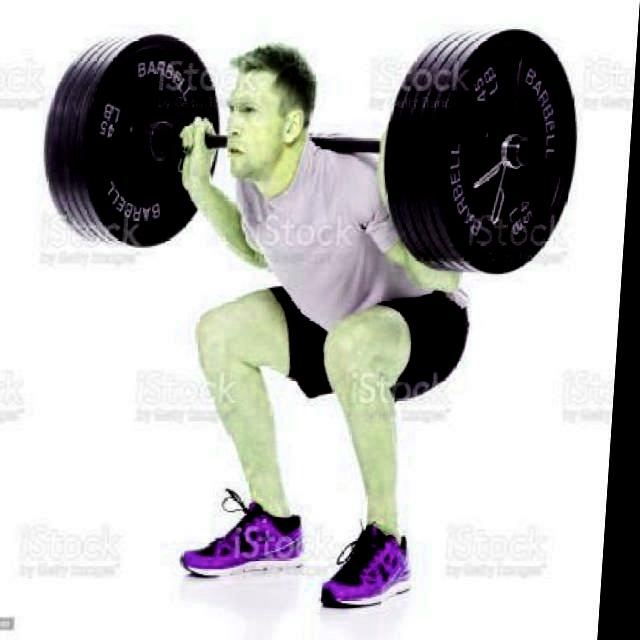barbell: (437, 27, 585, 277)
